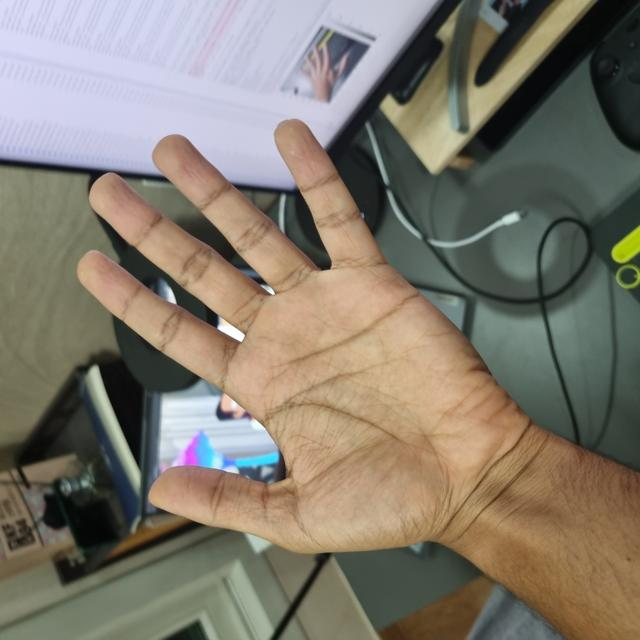Paper: (86, 75, 519, 513)
